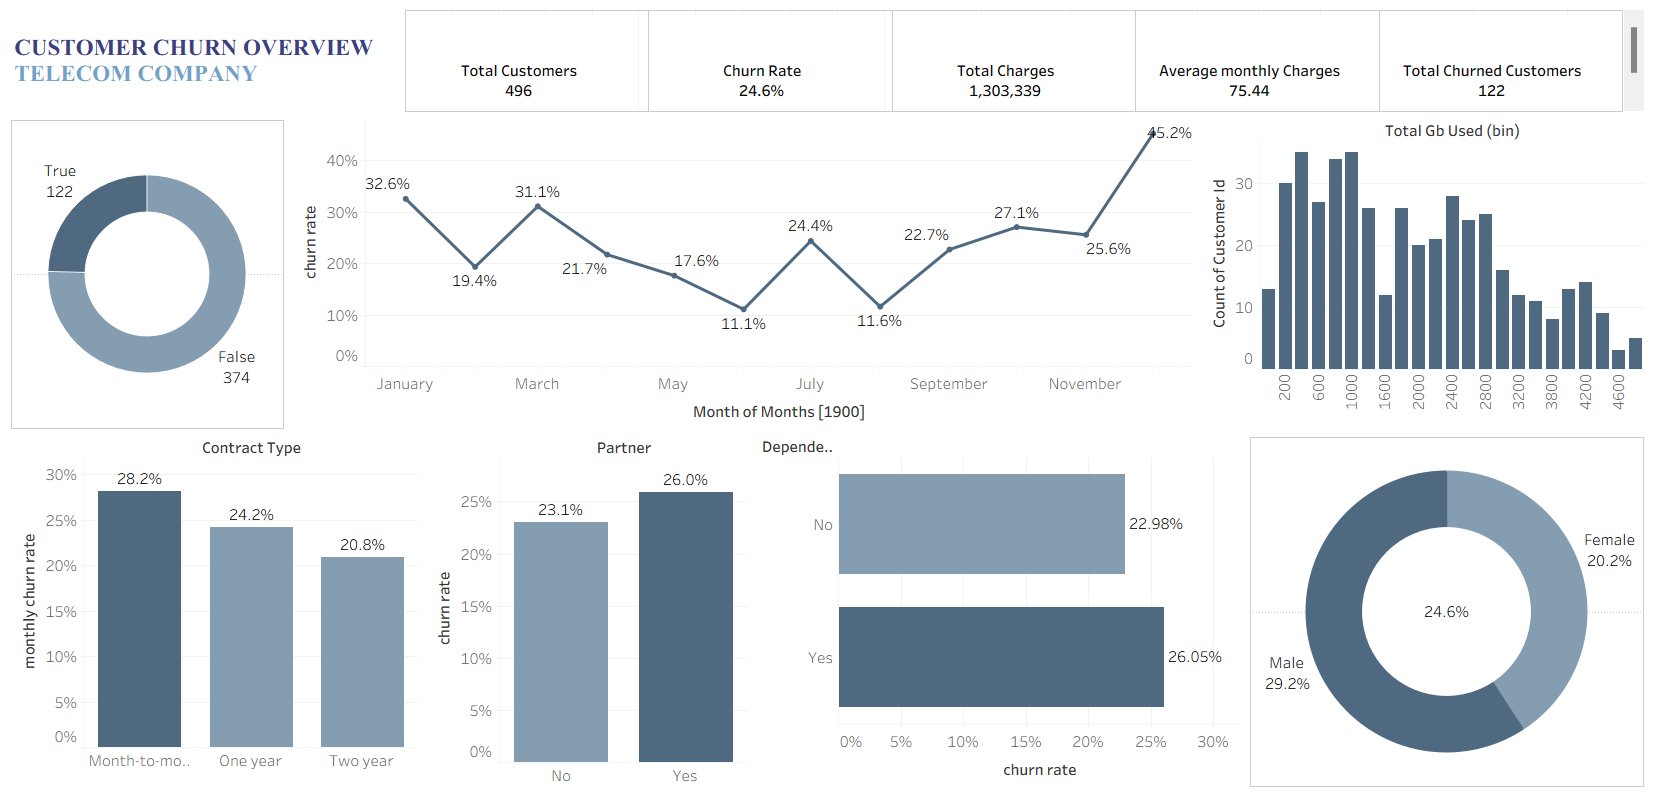

What the dashboard file says about the page in this screenshot:
{"tool":"tableau","page":{"name":"Dashboard 1","canvas":[1000,1000],"units":"permille","ordinal":0},"visuals":[{"type":"text","box":[4.8,10,237.8,137.3]},{"type":"worksheet","title":"Sheet 4","mark":"Automatic","cols":["Calculation_723953676585988099","Calculation_723953676550717441","Calculation_723953676586283013","Calculation_723953676586205188","Calculation_723953676738678791"],"box":[242.6,10,752.6,137.3]},{"type":"worksheet","title":"Sheet 2","mark":"Pie","rows":["Calculation_723953676548751360","Calculation_723953676548751360"],"box":[4.8,147.3,169.9,395.8]},{"type":"worksheet","title":"Sheet 5","mark":"Line","rows":["Calculation_723953676550717441"],"cols":["Calculation_723953676591558662"],"box":[174.7,147.3,548.3,395.8]},{"type":"worksheet","title":"Sheet 11","mark":"Automatic","rows":["customer_id"],"cols":["Total Gb Used (bin)"],"box":[723,147.3,272.2,395.8]},{"type":"worksheet","title":"Sheet 6","mark":"Automatic","rows":["Calculation_723953676556636162"],"cols":["contract_type"],"box":[4.8,543.1,250.6,446.9]},{"type":"worksheet","title":"Sheet 7","mark":"Bar","rows":["Calculation_723953676550717441"],"cols":["partner"],"box":[255.4,543.1,200,446.9]},{"type":"worksheet","title":"Sheet 8","mark":"Automatic","rows":["dependents"],"cols":["Calculation_723953676550717441"],"box":[455.5,543.1,297,446.9]},{"type":"worksheet","title":"Sheet 9","mark":"Pie","rows":["Calculation_723953676548751360","Calculation_723953676548751360"],"box":[752.4,543.1,242.7,446.9]}]}

Visuals, with their boxes on the dashboard's canvas, which has no fixed pixel size, in thousandths of its width and height (x1, y1, x2, y2). These are canvas units, not pixel positions in the 1655x797 screenshot, which may show the page scaled, cropped or inside an application window:
text: <region>5, 10, 243, 147</region>
"Sheet 4" worksheet: <region>243, 10, 995, 147</region>
"Sheet 2" worksheet (Pie marks): <region>5, 147, 175, 543</region>
"Sheet 5" worksheet (Line marks): <region>175, 147, 723, 543</region>
"Sheet 11" worksheet: <region>723, 147, 995, 543</region>
"Sheet 6" worksheet: <region>5, 543, 255, 990</region>
"Sheet 7" worksheet (Bar marks): <region>255, 543, 455, 990</region>
"Sheet 8" worksheet: <region>456, 543, 752, 990</region>
"Sheet 9" worksheet (Pie marks): <region>752, 543, 995, 990</region>
